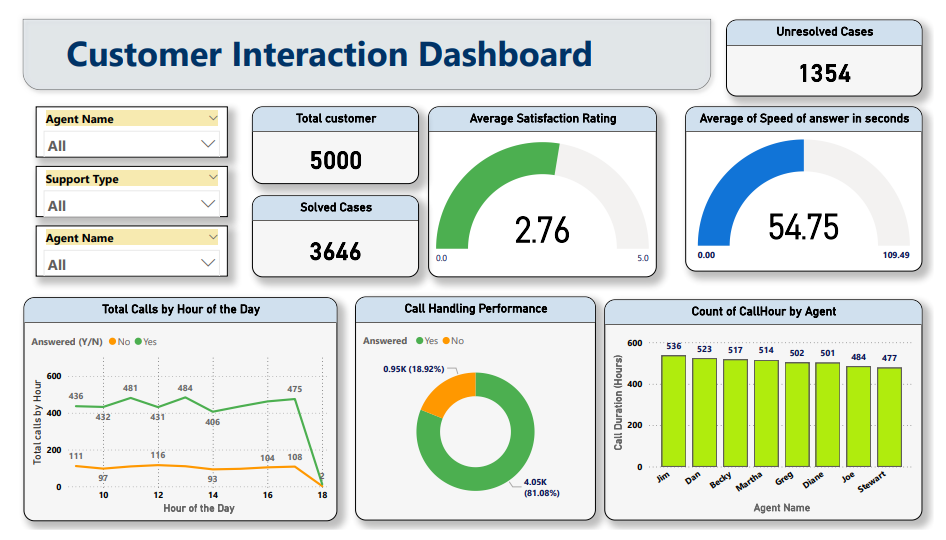

This screenshot's page, from the dashboard's own definition file:
{"tool":"powerbi","page":{"name":"Page 1","canvas":[1280,720],"ordinal":0},"visuals":[{"type":"gauge","title":"Average Satisfaction Rating ","fields":{"Y":["Sheet1.Satisfaction rating"]},"box":[574.4,130,318.9,237.8],"z":0},{"type":"donutChart","title":"Call Handling Performance","fields":{"Category":["Sheet1.Answered (Y/N)"],"Y":["Sheet1.Agent"]},"box":[472,394.7,336,312],"z":1000},{"type":"gauge","fields":{"Y":["Sheet1.Speed of answer in seconds"]},"box":[933.3,130,331.1,230],"z":2000},{"type":"columnChart","fields":{"Category":["Sheet1.Agent"],"Y":["Sheet1.CallHour"]},"box":[820,398.6,444.3,308.6],"z":3000},{"type":"lineChart","title":"Total Calls by Hour of the Day","fields":{"Category":["Sheet1.CallHour"],"Y":["Sheet1.Total_Calls_By_Hour"],"Series":["Sheet1.Answered (Y/N)"]},"box":[9,396,438,312],"z":4000},{"type":"card","title":"Total customer","fields":{"Values":["Sheet1.Total_Customer"]},"box":[327.8,130,233.3,107.8],"z":5000},{"type":"card","title":"Unresolved Cases ","fields":{"Values":["Sheet1.Resolved"]},"box":[990,8.6,274.3,107.1],"z":6000},{"type":"card","title":"Solved Cases ","fields":{"Values":["Sheet1.Resolved"]},"box":[327.8,254.4,233.3,113.3],"z":7000},{"type":"shape","box":[0,0,977.8,115.6],"z":8000},{"type":"textbox","box":[64.3,15.7,808.6,81.4],"z":9000},{"type":"slicer","fields":{"Values":["Sheet1.Agent"]},"box":[25.7,130,268.6,71.4],"z":10000},{"type":"slicer","fields":{"Values":["Sheet1.Topic"]},"box":[25.7,212.9,268.6,71.4],"z":11000},{"type":"slicer","fields":{"Values":["Sheet1.Date"]},"box":[25.7,295.7,268.6,71.4],"z":12000}]}

Visuals, with their boxes in screenshot pixels (x1, y1, x2, y2), scaled from the page's 1280x720 canvas onto the 946x540 screenshot:
"Average Satisfaction Rating " gauge: Rect(425, 98, 660, 276)
"Call Handling Performance" donutChart: Rect(349, 296, 597, 530)
gauge - Sheet1.Speed of answer in seconds: Rect(690, 98, 934, 270)
columnChart - Sheet1.Agent x Sheet1.CallHour: Rect(606, 299, 934, 530)
"Total Calls by Hour of the Day" lineChart: Rect(7, 297, 330, 531)
"Total customer" card: Rect(242, 98, 415, 178)
"Unresolved Cases " card: Rect(732, 6, 934, 87)
"Solved Cases " card: Rect(242, 191, 415, 276)
shape: Rect(0, 0, 723, 87)
textbox: Rect(48, 12, 645, 73)
slicer - Sheet1.Agent: Rect(19, 98, 218, 151)
slicer - Sheet1.Topic: Rect(19, 160, 218, 213)
slicer - Sheet1.Date: Rect(19, 222, 218, 275)
